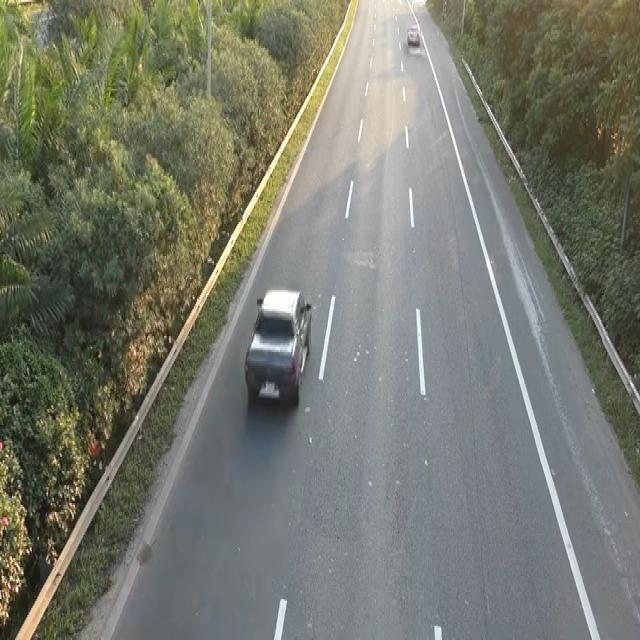bus: (405, 23, 420, 46)
car: (242, 283, 313, 407)
